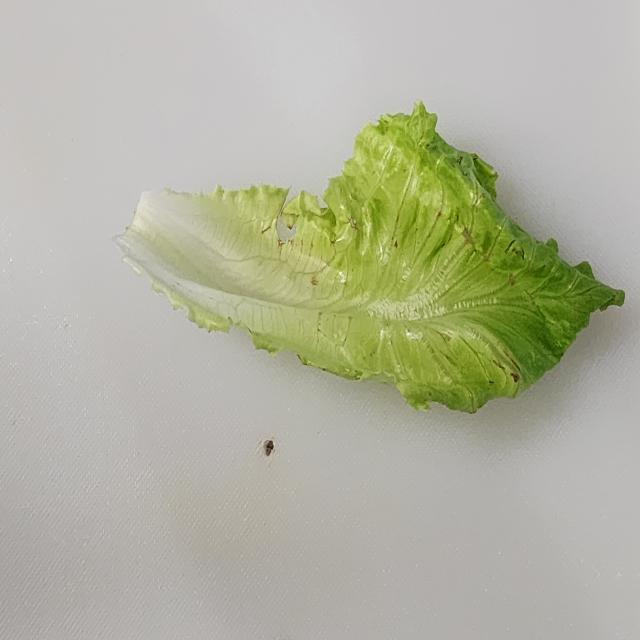lettuce: (114, 99, 625, 415)
